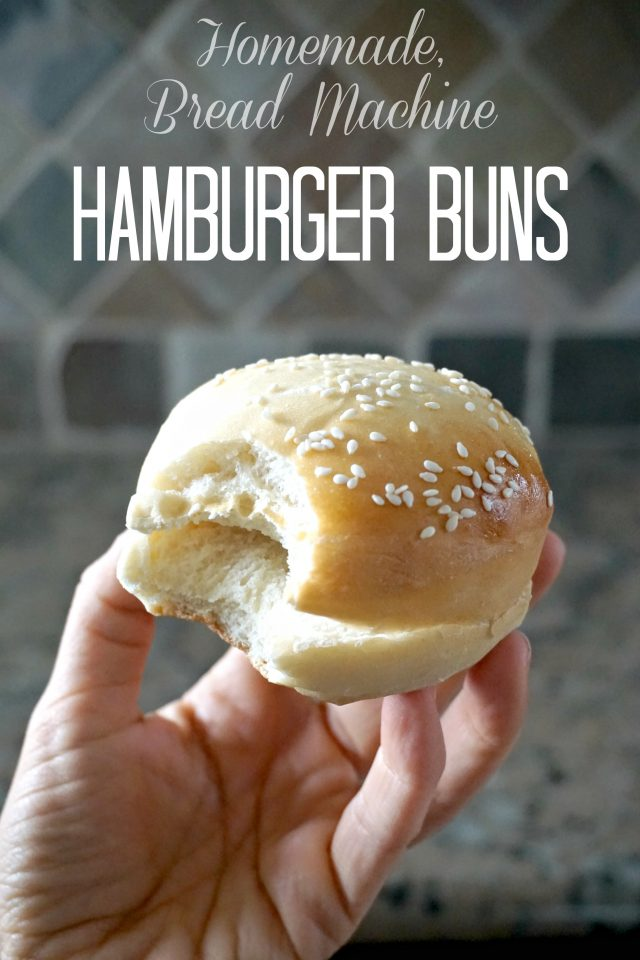hamburger_buns: (102, 326, 564, 735)
